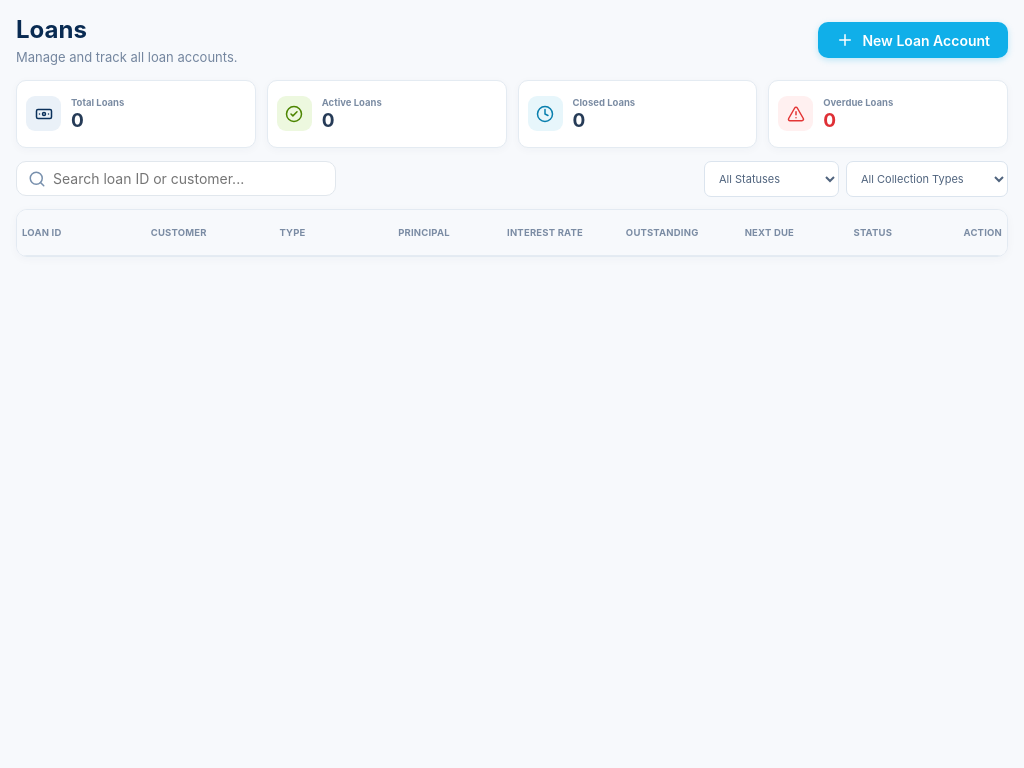
it: Loans Page Component › opens Create Loan modal with empty defaults for all business and calculated fields
This screenshot has width=1024, height=768.
Click the button "New Loan Account".
click(913, 40)  # box [818,22,1008,58]
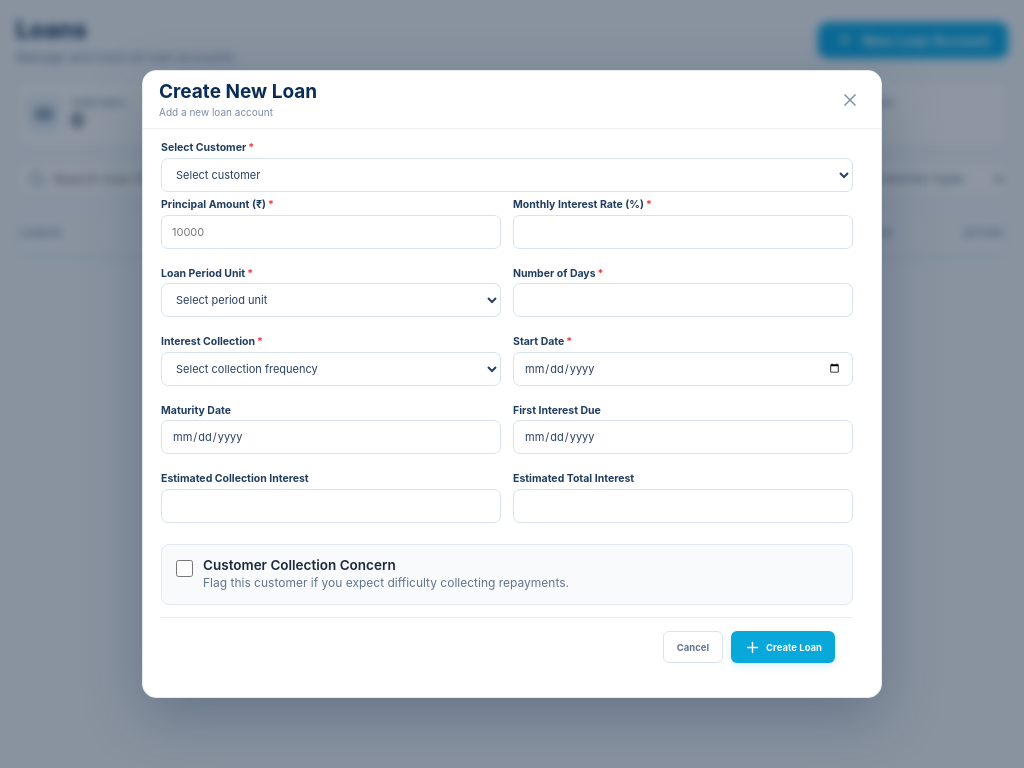
Now the dropdown labelled "Select Customer*" shows "Select customer", box [161,158,853,192]
Now the number field labelled "Principal Amount (₹)*" is not empty, box [161,214,501,248]
Now the number field labelled "Monthly Interest Rate (%)*" is not empty, box [513,214,853,248]
